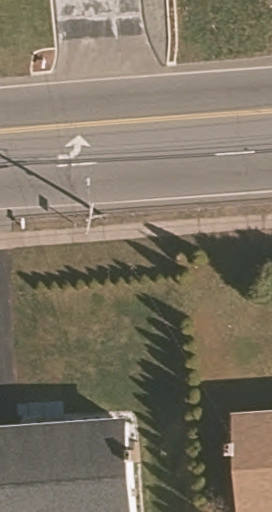DT: (80, 171, 117, 242)
